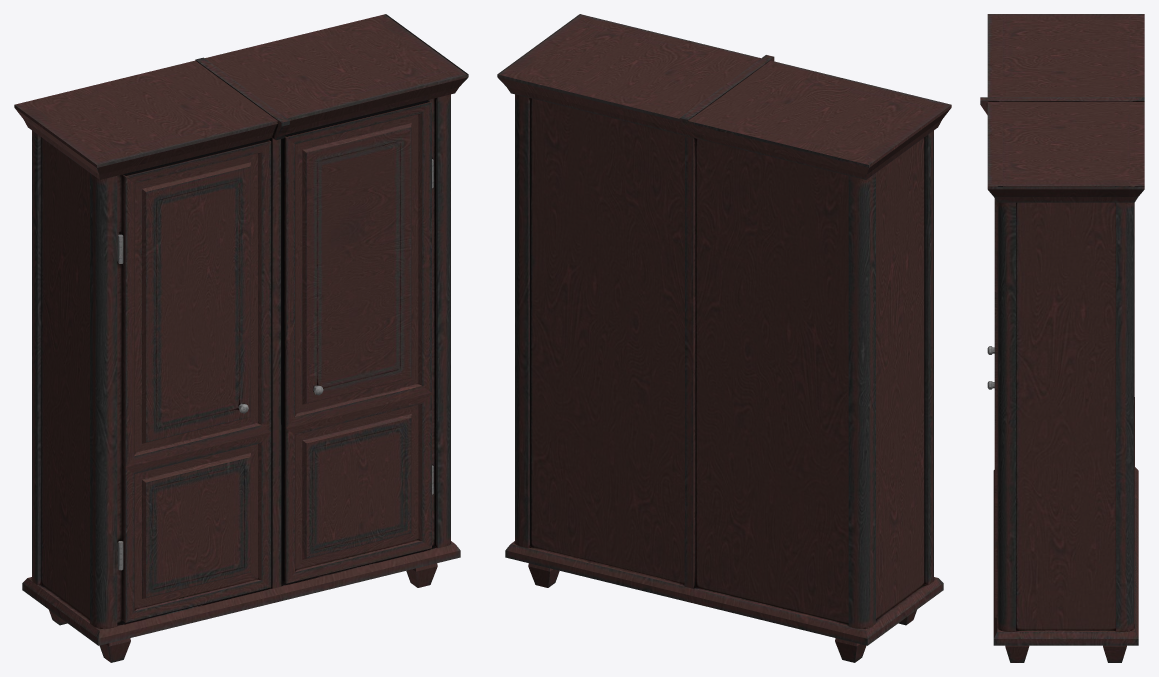
3 renders of one model, left to right at view 1: azimuth 30°, elevation 25°; view 2: azimuth 150°, elevation 25°; view 3: azimuth 270°, elevation 25°, orthographic. The views are drawn at different scales.
Parts seen in each view (by area): view 1: Object_3, Object_2; view 2: Object_2; view 3: Object_2, Object_3.
Boxes of the visible parts, <box> form: Object_3: <box>121,100,431,622</box>; Object_2: <box>14,14,468,662</box>; Object_2: <box>497,14,951,662</box>; Object_2: <box>980,14,1144,662</box>; Object_3: <box>987,198,997,617</box>.
Bounding box in the file's own units: 1.61 × 2.12 × 0.6463.
Materials: 2 (2 with a texture image).
